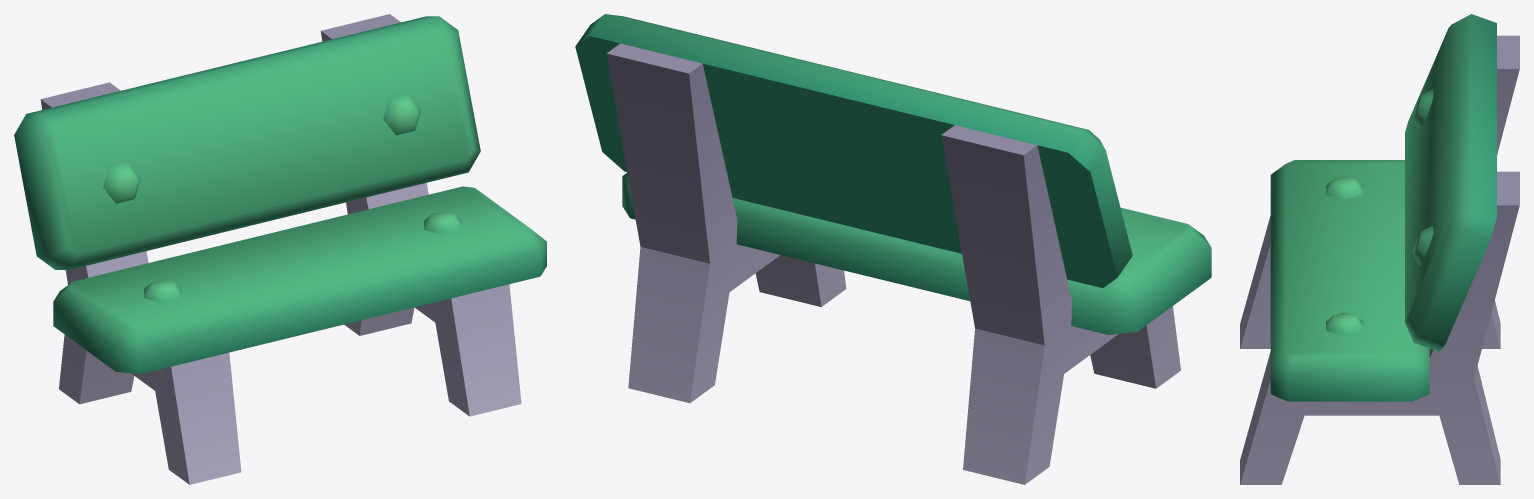
The model's file is mini-skate--bench.glb.
3 renders of one model, left to right at view 1: azimuth 30°, elevation 25°; view 2: azimuth 150°, elevation 25°; view 3: azimuth 270°, elevation 25°, orthographic. The views are drawn at different scales.
Parts seen in each view (by area): view 1: bench; view 2: bench; view 3: bench.
Boxes of the visible parts, x1,y1,x2,y2 form: bench: (14, 14, 546, 484); bench: (575, 14, 1211, 484); bench: (1240, 14, 1519, 484).
Size of the model in its own units: 0.7783 by 0.5072 by 0.4388.
Materials: 1 (1 with a texture image).
